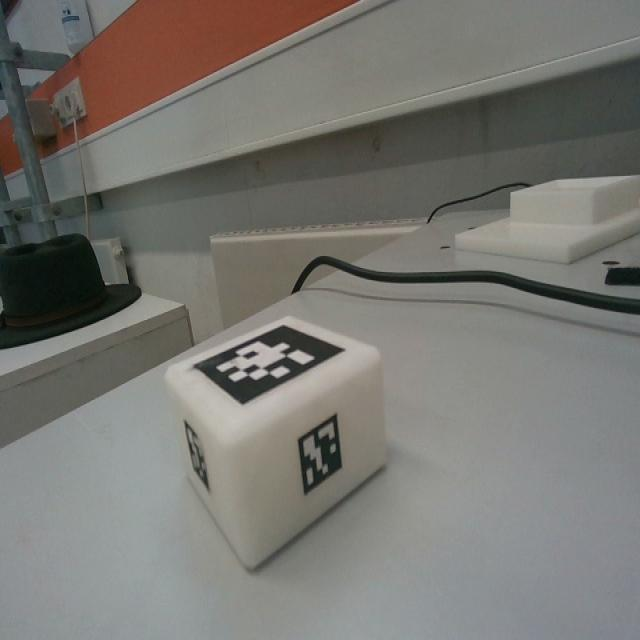Cube: (163, 314, 386, 574)
